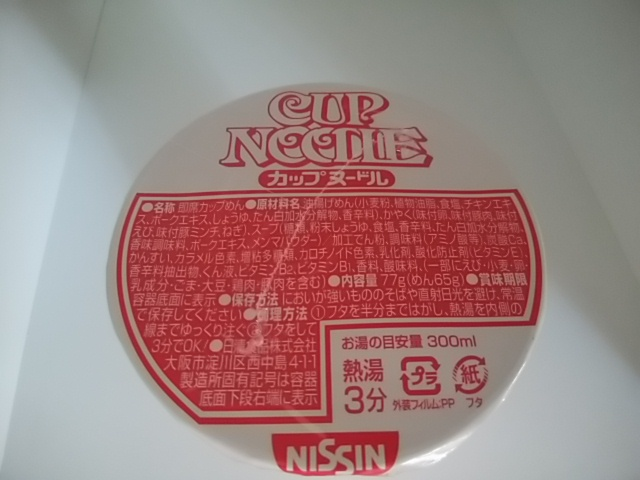cup-ramen: (98, 80, 560, 480)
